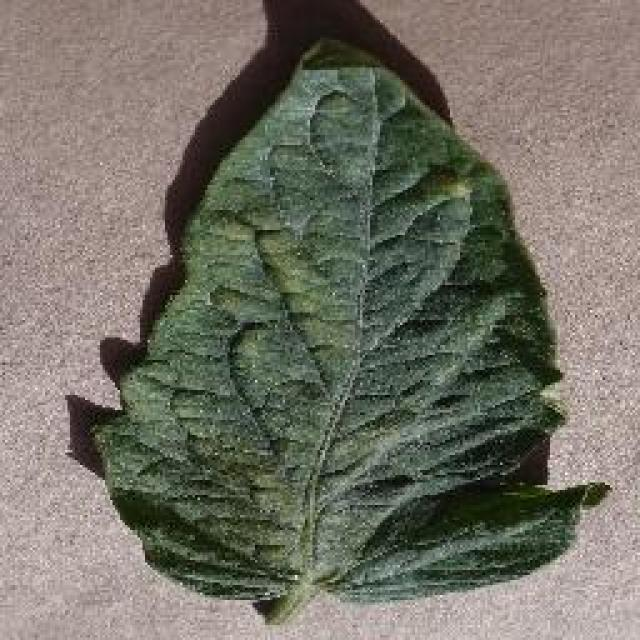Tomato mosaic virus leaf: (94, 32, 608, 608)
